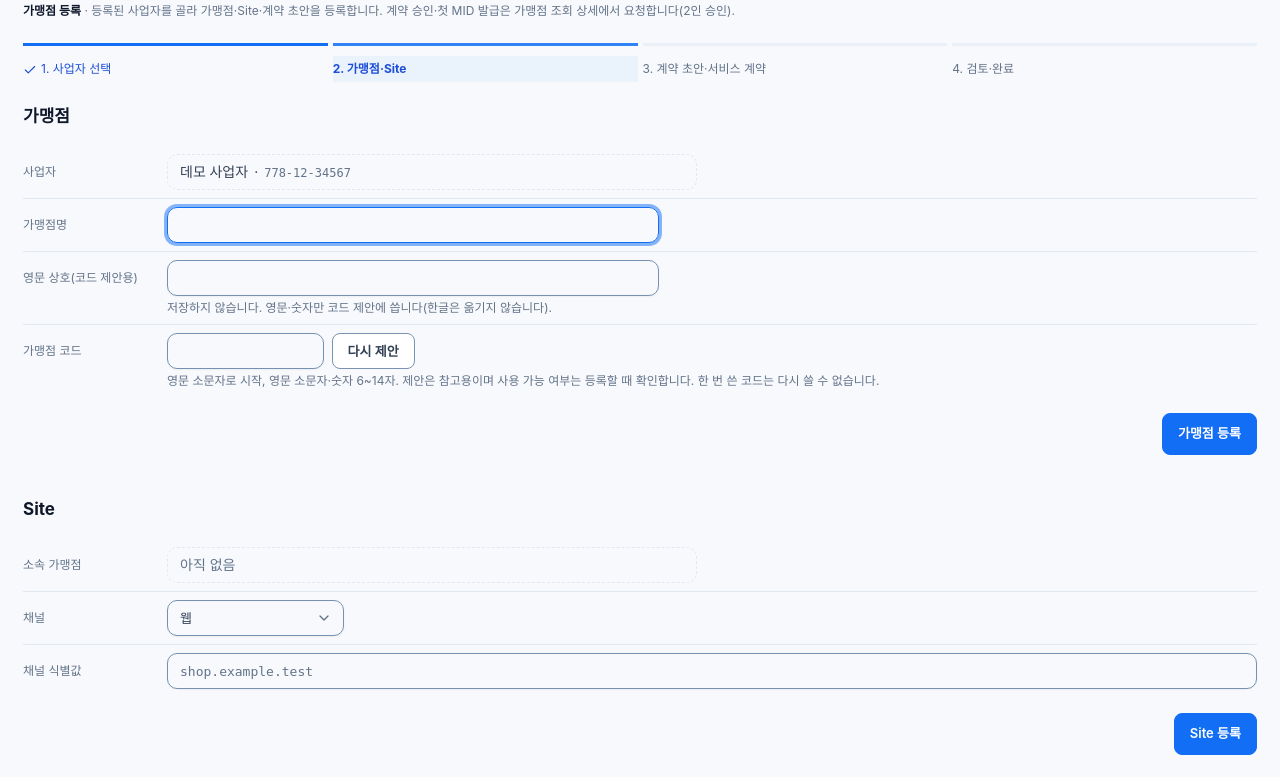
MerchantRegistrationScreen wizard (ADMIN-UI-MERCHANT-002 — ① 사업자 선택 → ② 가맹점·Site → ③ 계약 초안·서비스 계약 → ④ 검토·완료) › ① BIZ-4-4 (D-BIZ-004): finds the business with the registration-number lookup (merchantSearch not called — a business without merchants is found), number cleare
This screenshot has width=1280, height=777.
Earlier steps of the test are not shown.
Type keys "데모 가맹점"
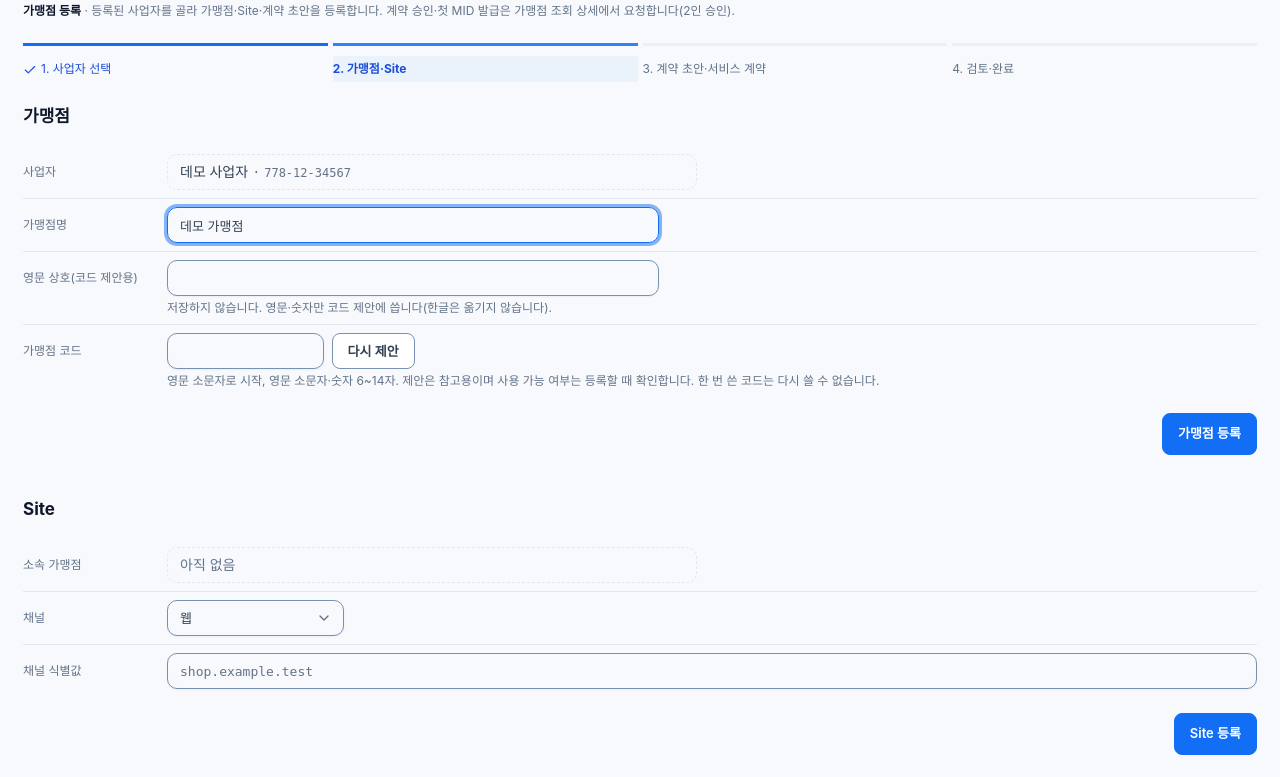
Click the field labelled "가맹점 코드". click: click(245, 351)
box: [167,333,324,369]
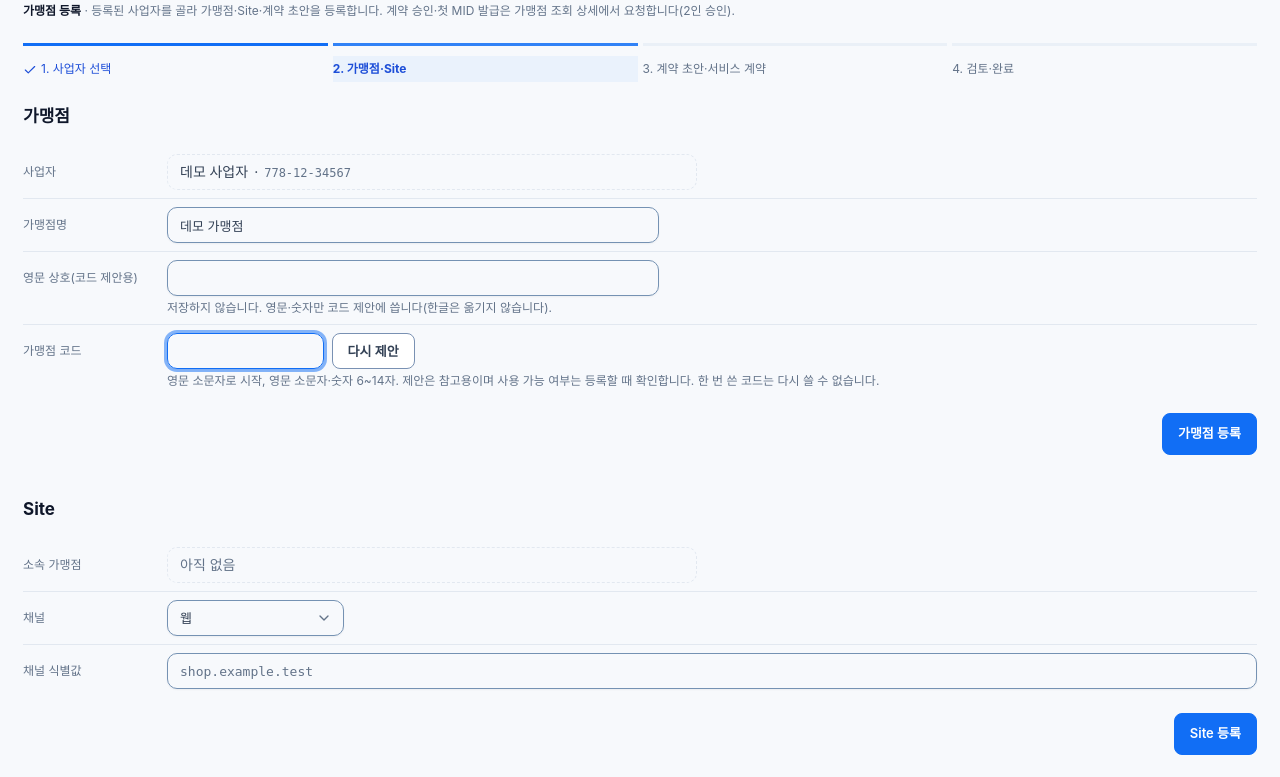
Type keys "shopabcd12"
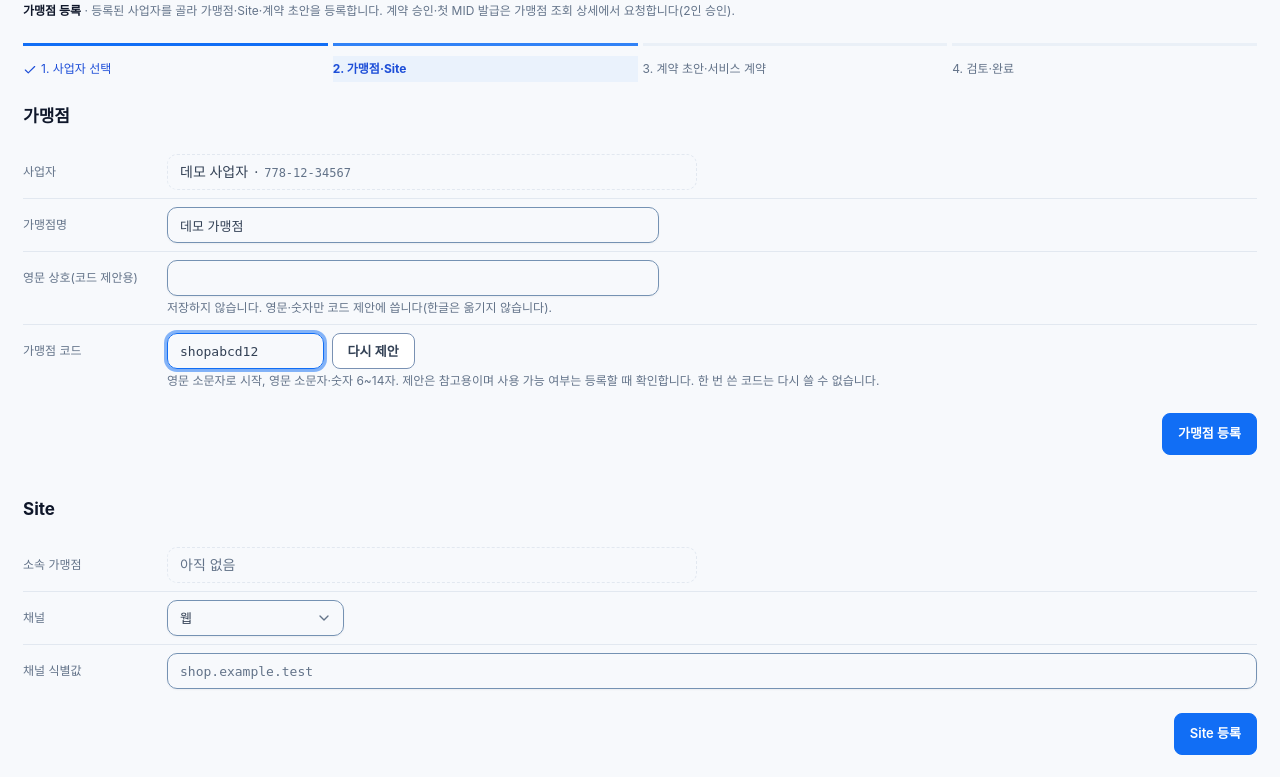
Click the field labelled "채널 식별값". click: click(712, 671)
box: [167,653,1257,689]
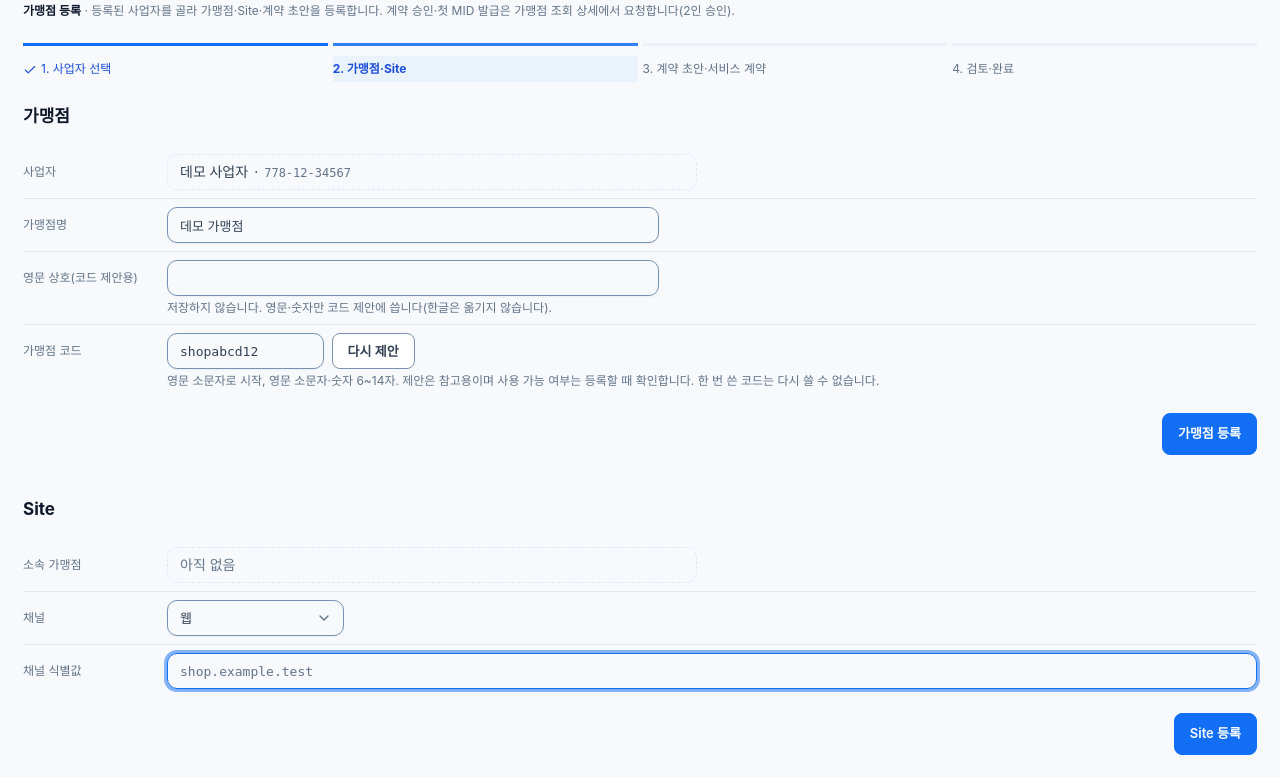
Type keys "demo-shop2.paycore.test"
(page scrolled)
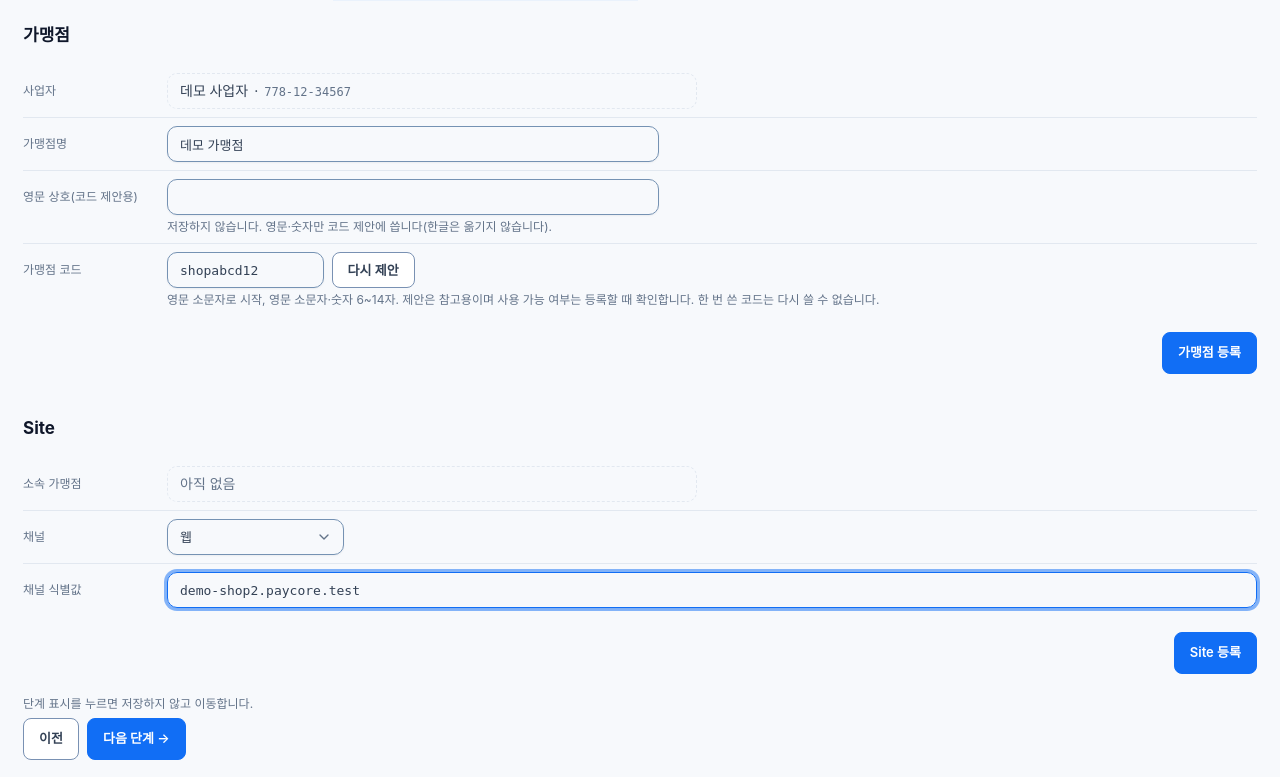
Click the button "다음 단계 →". click: click(136, 739)
box: [87,718,186,760]
(page scrolled)
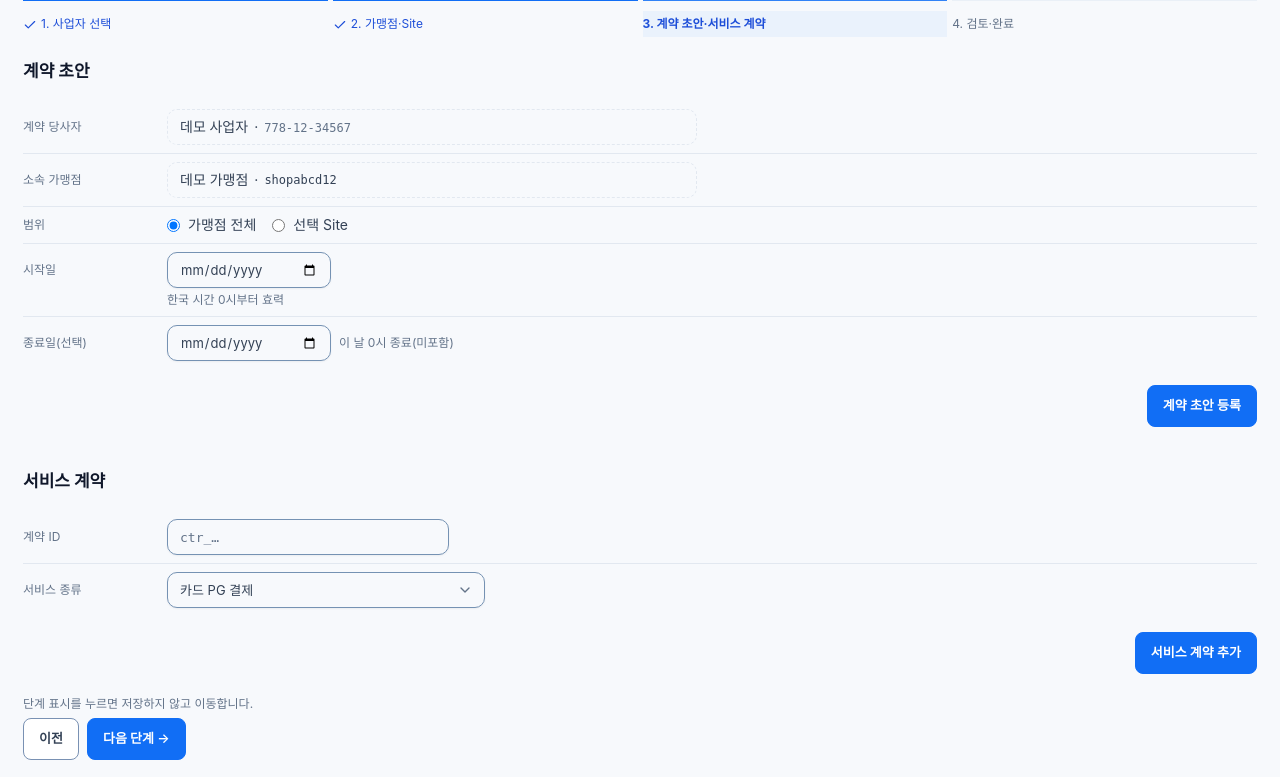
Result: the element "계약 초안" is shown at [0,37,1279,447]
